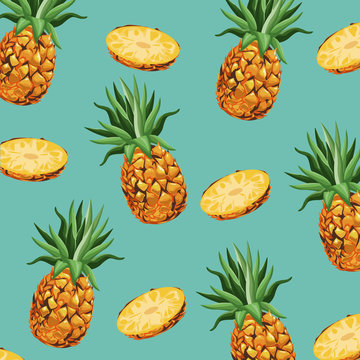Pineapple: (86, 69, 196, 224), (23, 195, 125, 350), (195, 241, 298, 360), (214, 1, 315, 122), (285, 122, 360, 272), (1, 1, 87, 112)
